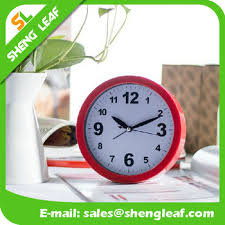alarm_clock: (74, 74, 187, 184), (74, 78, 187, 184)
